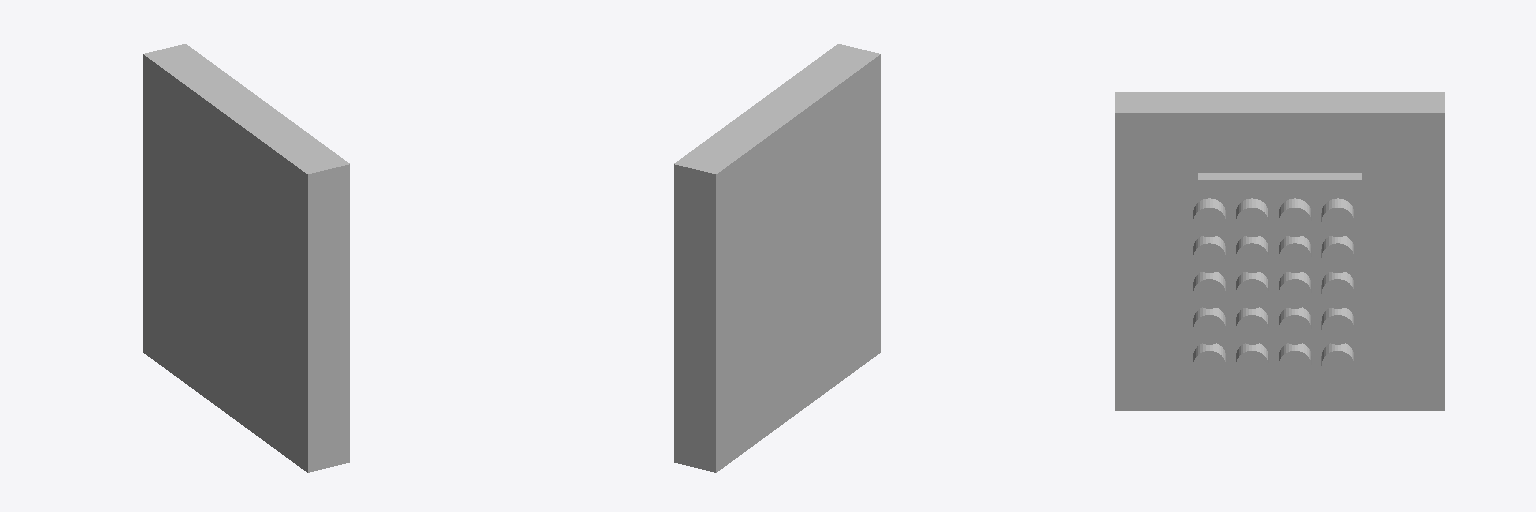
The model's file is input_screen.obj.
3 renders of one model, left to right at view 1: azimuth 30°, elevation 25°; view 2: azimuth 150°, elevation 25°; view 3: azimuth 270°, elevation 25°, orthographic.
Parts seen in each view (by area): view 1: Cube_Cube.001; view 2: Cube_Cube.001; view 3: Cube_Cube.001.
Part boxes in pixels (x1,y1,x2,y2): Cube_Cube.001: (143,44,349,472); Cube_Cube.001: (674,44,880,472); Cube_Cube.001: (1115,92,1444,410).
Size of the model in its own units: 0.0862 by 0.4 by 0.4.